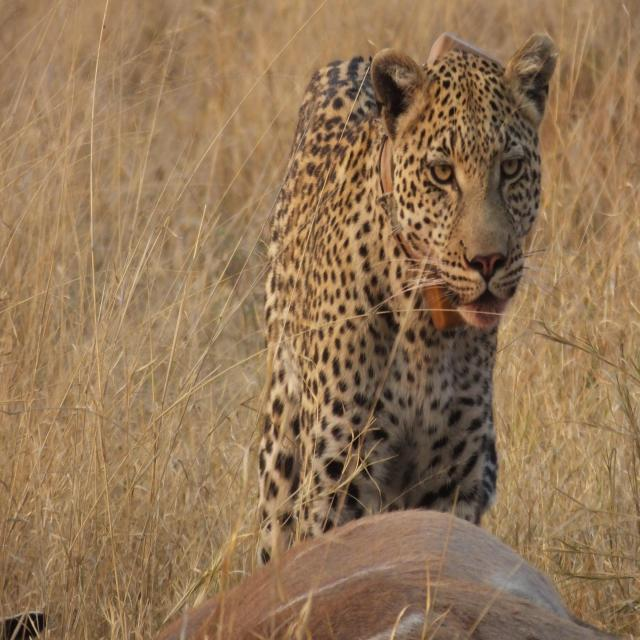Leopard: (254, 34, 546, 567)
